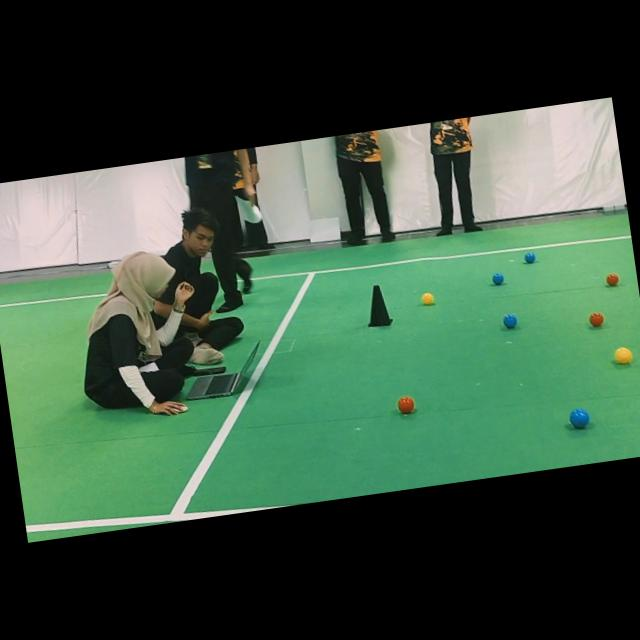ball: (569, 409, 590, 429), (614, 347, 633, 365), (397, 396, 415, 413), (589, 312, 604, 327), (606, 272, 620, 287), (504, 314, 517, 329), (422, 292, 435, 305), (492, 272, 504, 285), (524, 252, 536, 263)
